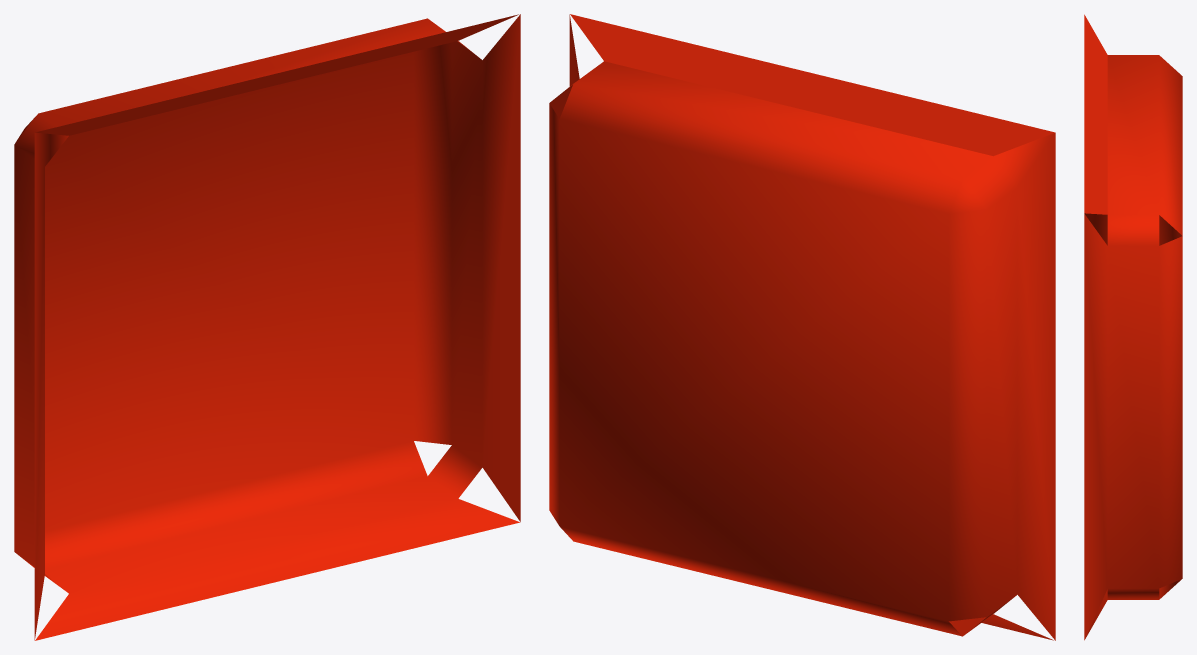
The model's file is Button.fbx.
The picture shows the model from 3 angles, left to right: view 1: azimuth 30°, elevation 25°; view 2: azimuth 150°, elevation 25°; view 3: azimuth 270°, elevation 25°; orthographic projection. The views are drawn at different scales.
Visible parts, largest first — view 1: Button; view 2: Button; view 3: Button.
Part boxes in pixels (x1,y1,x2,y2): Button: (14, 14, 520, 640); Button: (549, 14, 1055, 640); Button: (1084, 14, 1182, 640).
Bounding box in the file's own units: 19.61 × 19.61 × 4.09.
